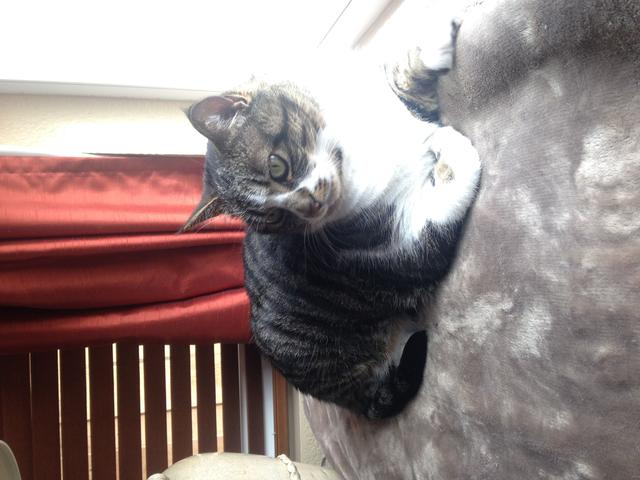playdoh: (176, 16, 481, 423)
